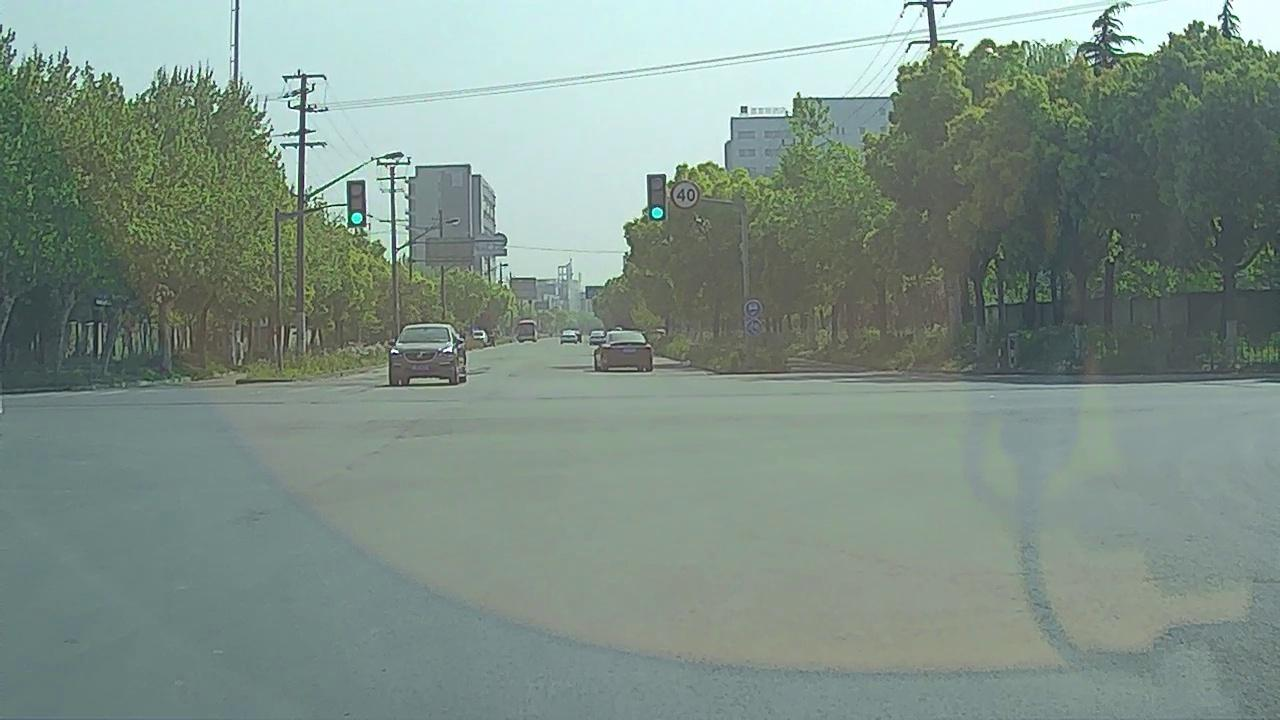traffic_light: (348, 181, 365, 226), (649, 175, 665, 219)
